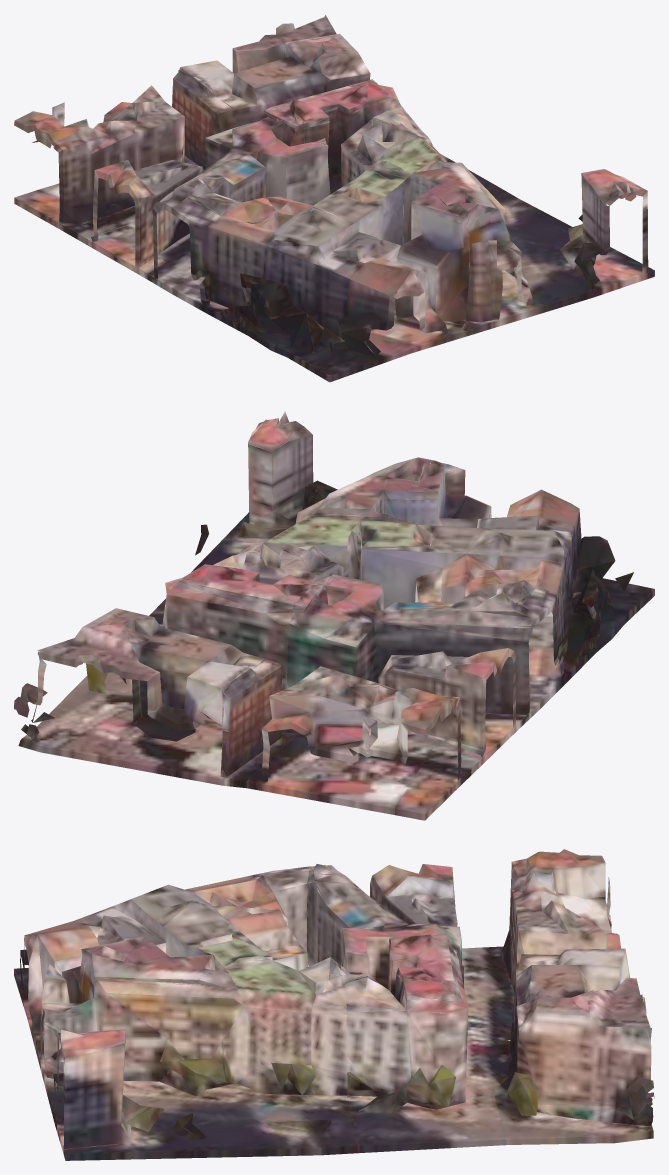
3 renders of one model, top to bottom at view 1: azimuth 30°, elevation 25°; view 2: azimuth 150°, elevation 25°; view 3: azimuth 270°, elevation 25°, orthographic. The views are drawn at different scales.
Parts seen in each view (by area): view 1: Mesh_0; view 2: Mesh_0; view 3: Mesh_0.
Part boxes in pixels (x1=…): Mesh_0: x1=14, y1=15, x2=654, y2=382; Mesh_0: x1=14, y1=411, x2=654, y2=820; Mesh_0: x1=14, y1=849, x2=654, y2=1160.
Size of the model in its own units: 133 by 36.2 by 165.
1 material, 1 textured.
